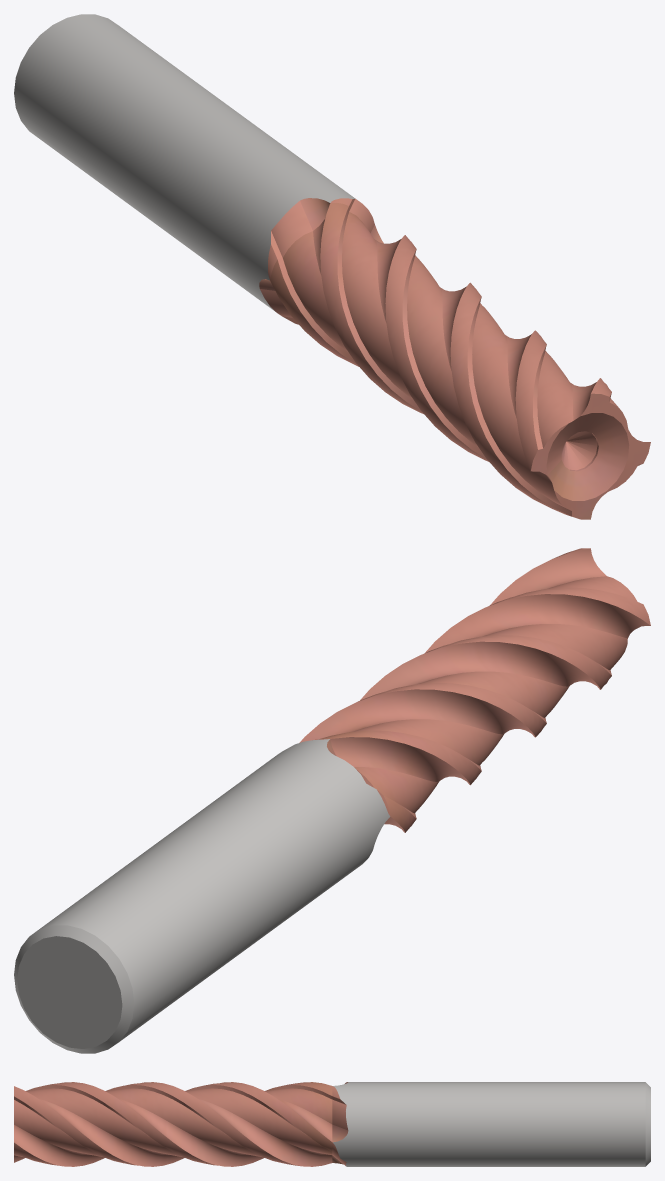
The model's file is end mill.glb.
3 renders of one model, top to bottom at view 1: azimuth 30°, elevation 25°; view 2: azimuth 150°, elevation 25°; view 3: azimuth 270°, elevation 25°, orthographic. The views are drawn at different scales.
Visible parts, largest first — view 1: Solid1; view 2: Solid1; view 3: Solid1.
Part boxes in pixels (x1,y1,x2,y2): Solid1: [14, 14, 650, 519]; Solid1: [14, 548, 650, 1053]; Solid1: [14, 1082, 650, 1166].
Bounding box in the file's own units: 0.016 × 0.016 × 0.12.
2 materials, 1 textured.
